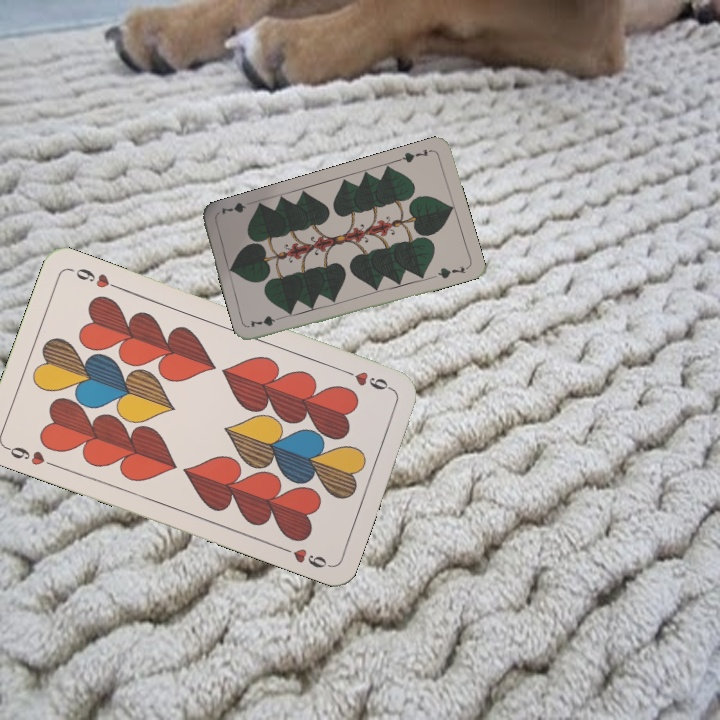G7: (395, 145, 435, 165), (247, 312, 288, 330)
H9: (338, 365, 395, 394), (1, 442, 59, 470)
